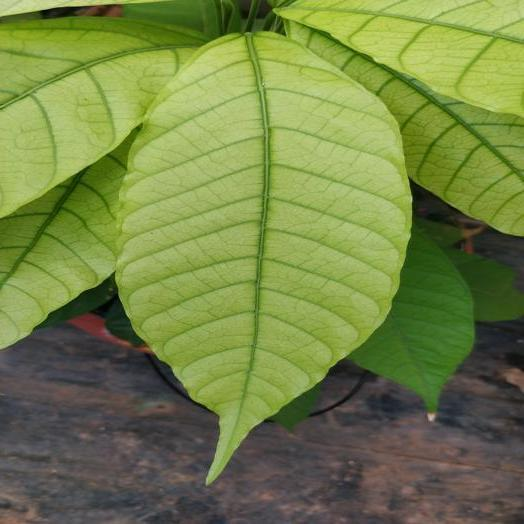Healthy Leaf: (349, 224, 473, 419)
Iron: (116, 33, 410, 481), (292, 25, 523, 233), (1, 18, 202, 216), (281, 0, 523, 115), (0, 142, 128, 348)
